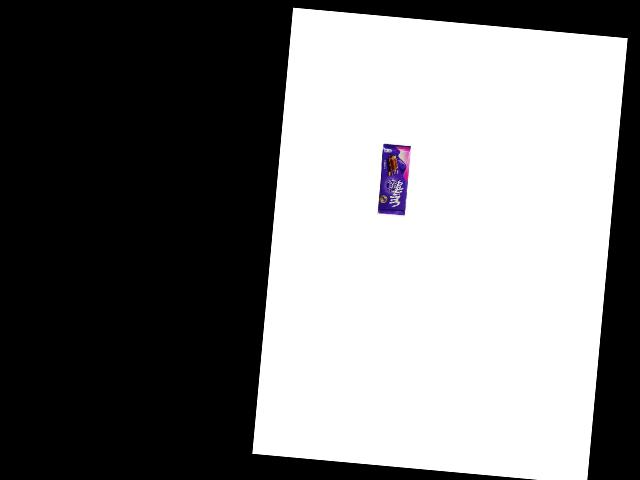chocolate: (376, 143, 411, 216)
